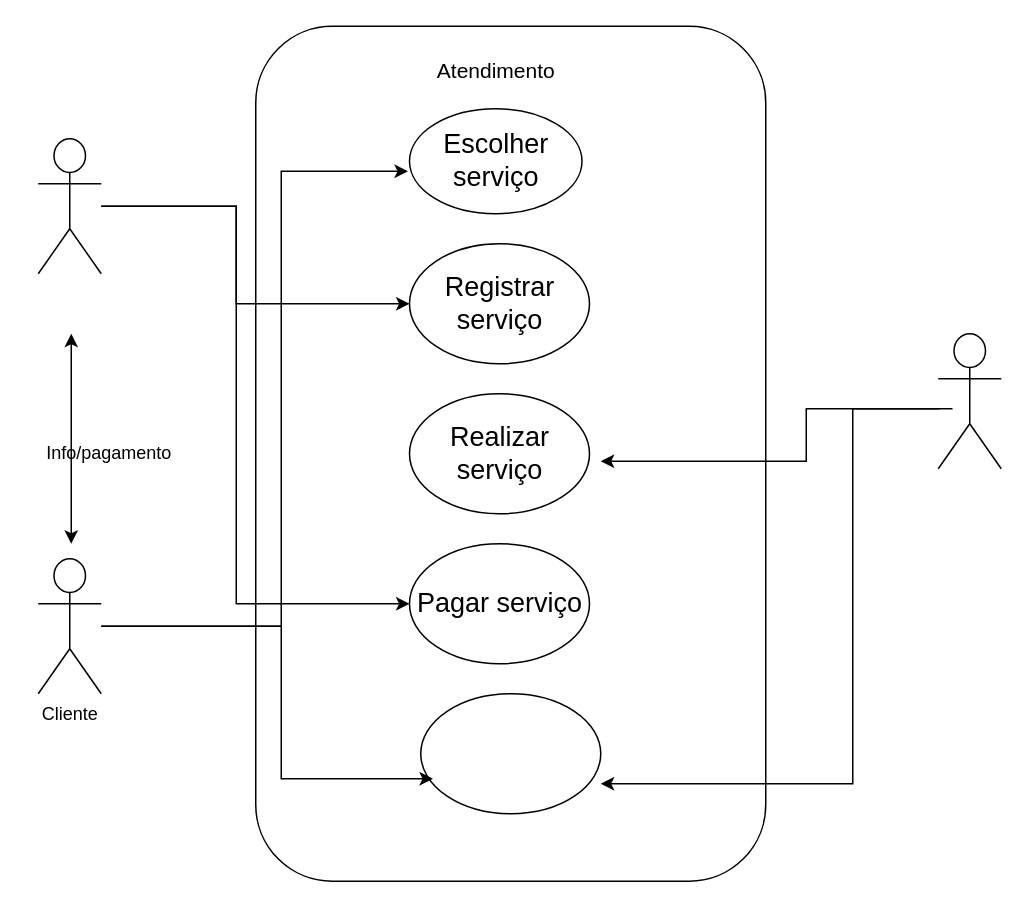
This 1028x908 diagram has some shape labels left out. Each missing label, with the centre of its shape:
"Atendente" goes at point 69,205.
"Entregar veículo" goes at point 510,753.
"Lavador" goes at point 969,400.
